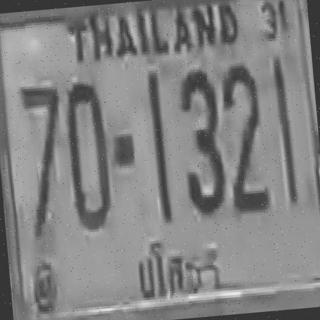N00: (62, 78, 112, 228)
N01: (145, 70, 171, 221), (270, 56, 296, 204)
N02: (219, 59, 268, 212)
N03: (176, 65, 226, 213)
N07: (17, 82, 70, 235)
P77: (126, 232, 228, 302)
